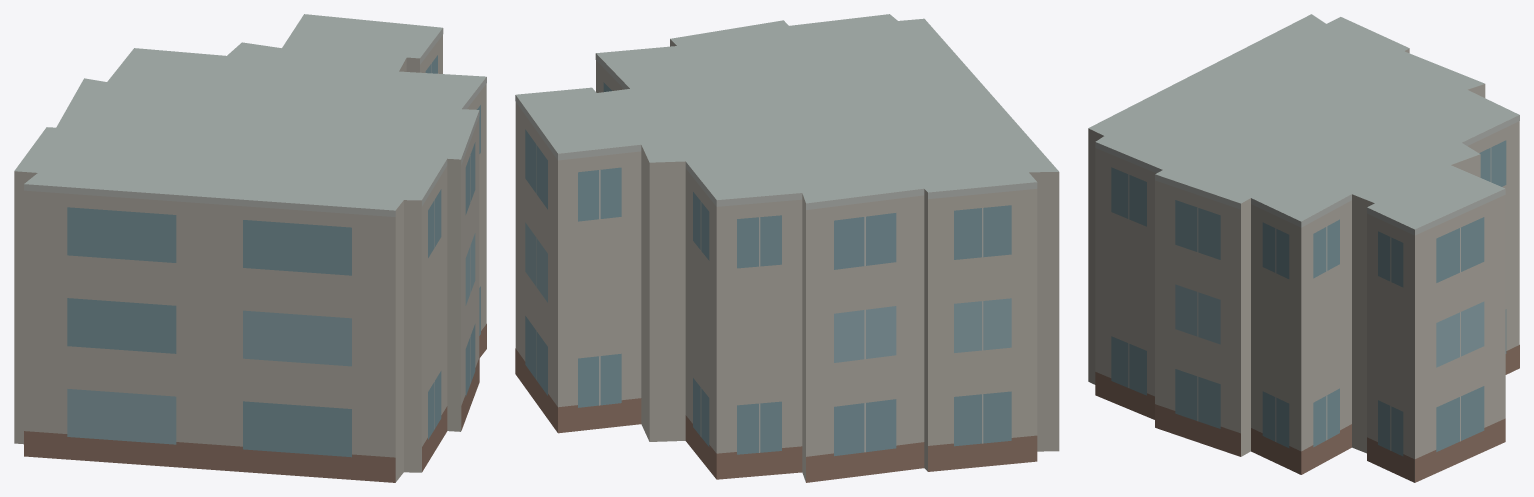
The model's file is survey-upis-33023595.glb.
3 renders of one model, left to right at view 1: azimuth 30°, elevation 25°; view 2: azimuth 150°, elevation 25°; view 3: azimuth 270°, elevation 25°, orthographic. The views are drawn at different scales.
Visible parts, largest first — view 1: survey-upis-33023595.tmp; view 2: survey-upis-33023595.tmp; view 3: survey-upis-33023595.tmp.
Part boxes in pixels (x1,y1,x2,y2): survey-upis-33023595.tmp: (14, 14, 486, 482); survey-upis-33023595.tmp: (515, 14, 1059, 482); survey-upis-33023595.tmp: (1088, 14, 1519, 482).
Size of the model in its own units: 18.61 by 10.2 by 15.76.
